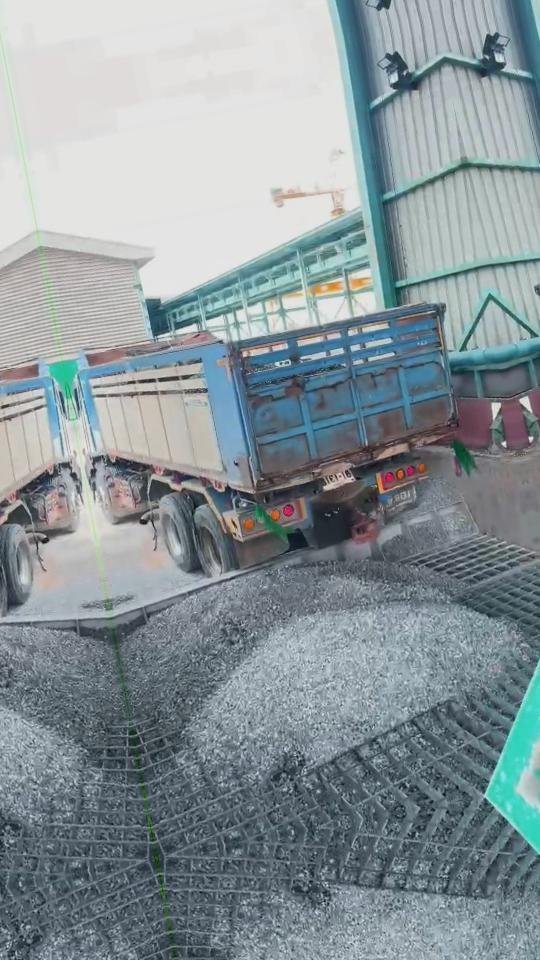gravel: (120, 561, 522, 786), (378, 478, 479, 560)
